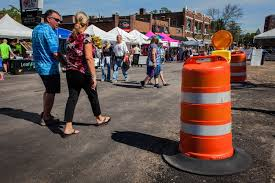barrel: (181, 57, 233, 156), (231, 52, 247, 79)
